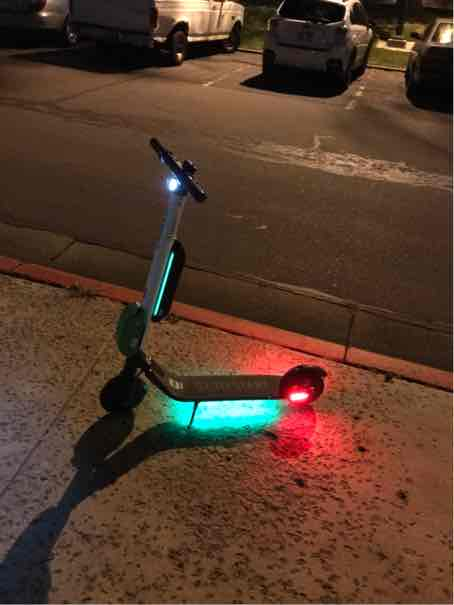scooter: (90, 121, 334, 435)
